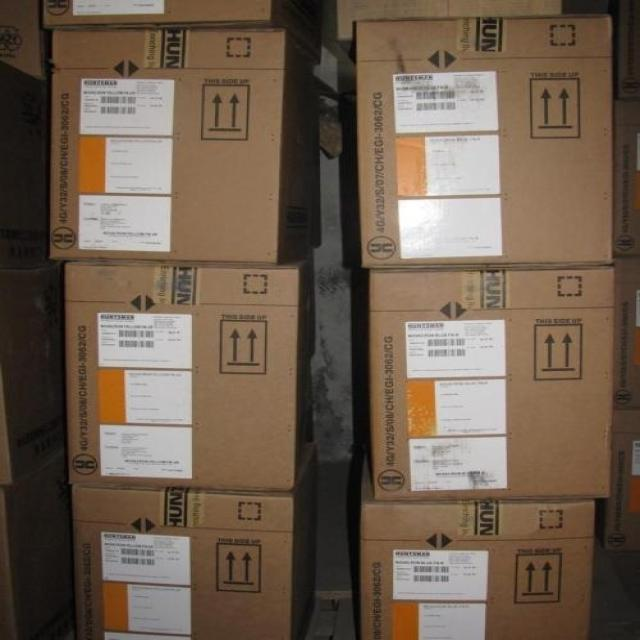box: (337, 16, 612, 274), (52, 30, 323, 265), (61, 246, 318, 493), (348, 265, 615, 500), (350, 453, 597, 639), (74, 462, 315, 639), (41, 1, 321, 62), (322, 3, 562, 60), (563, 0, 639, 104), (599, 390, 639, 552), (612, 104, 639, 259), (0, 0, 44, 83), (613, 256, 639, 391)
